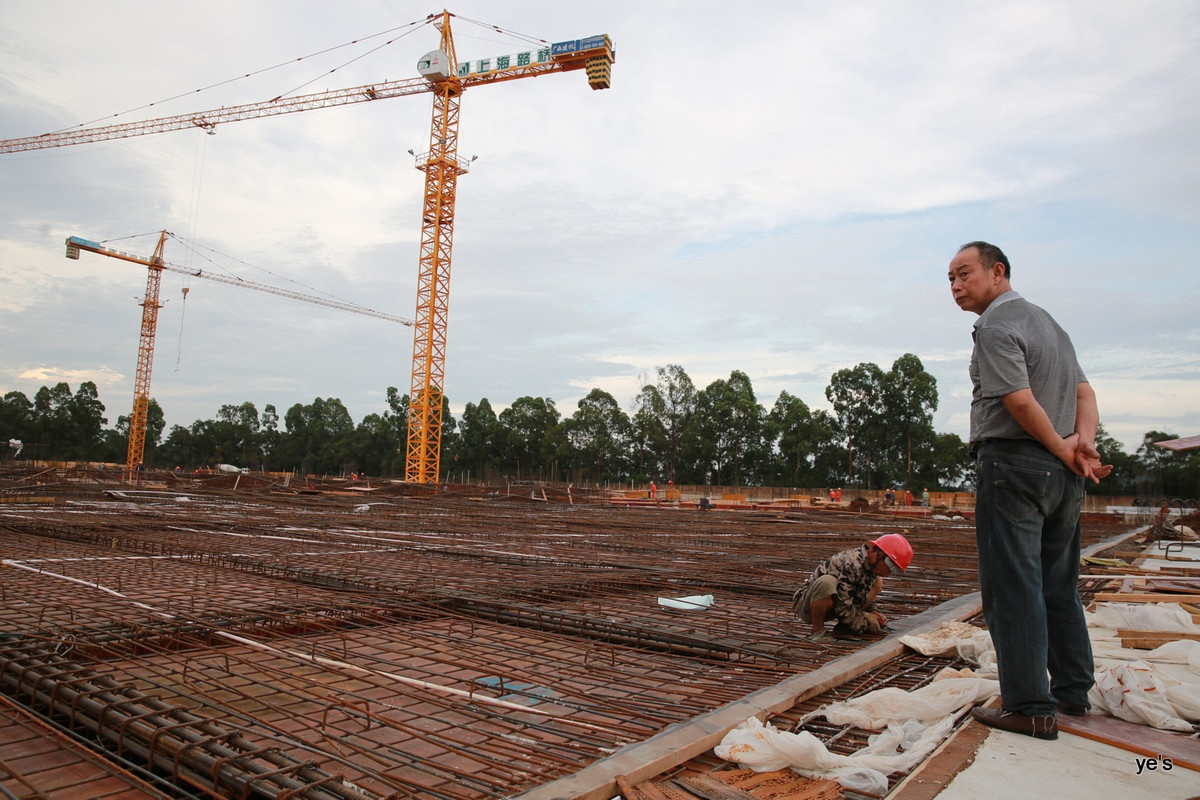none: (945, 238, 1018, 316)
red: (861, 529, 917, 580)
